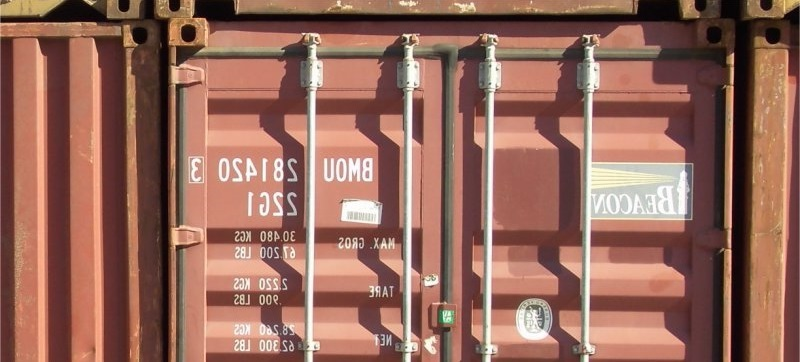container_door: (172, 16, 741, 362)
